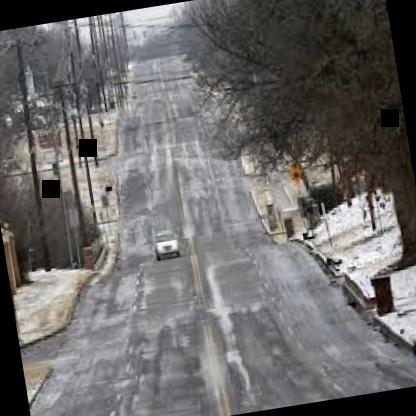car: (140, 221, 186, 268)
